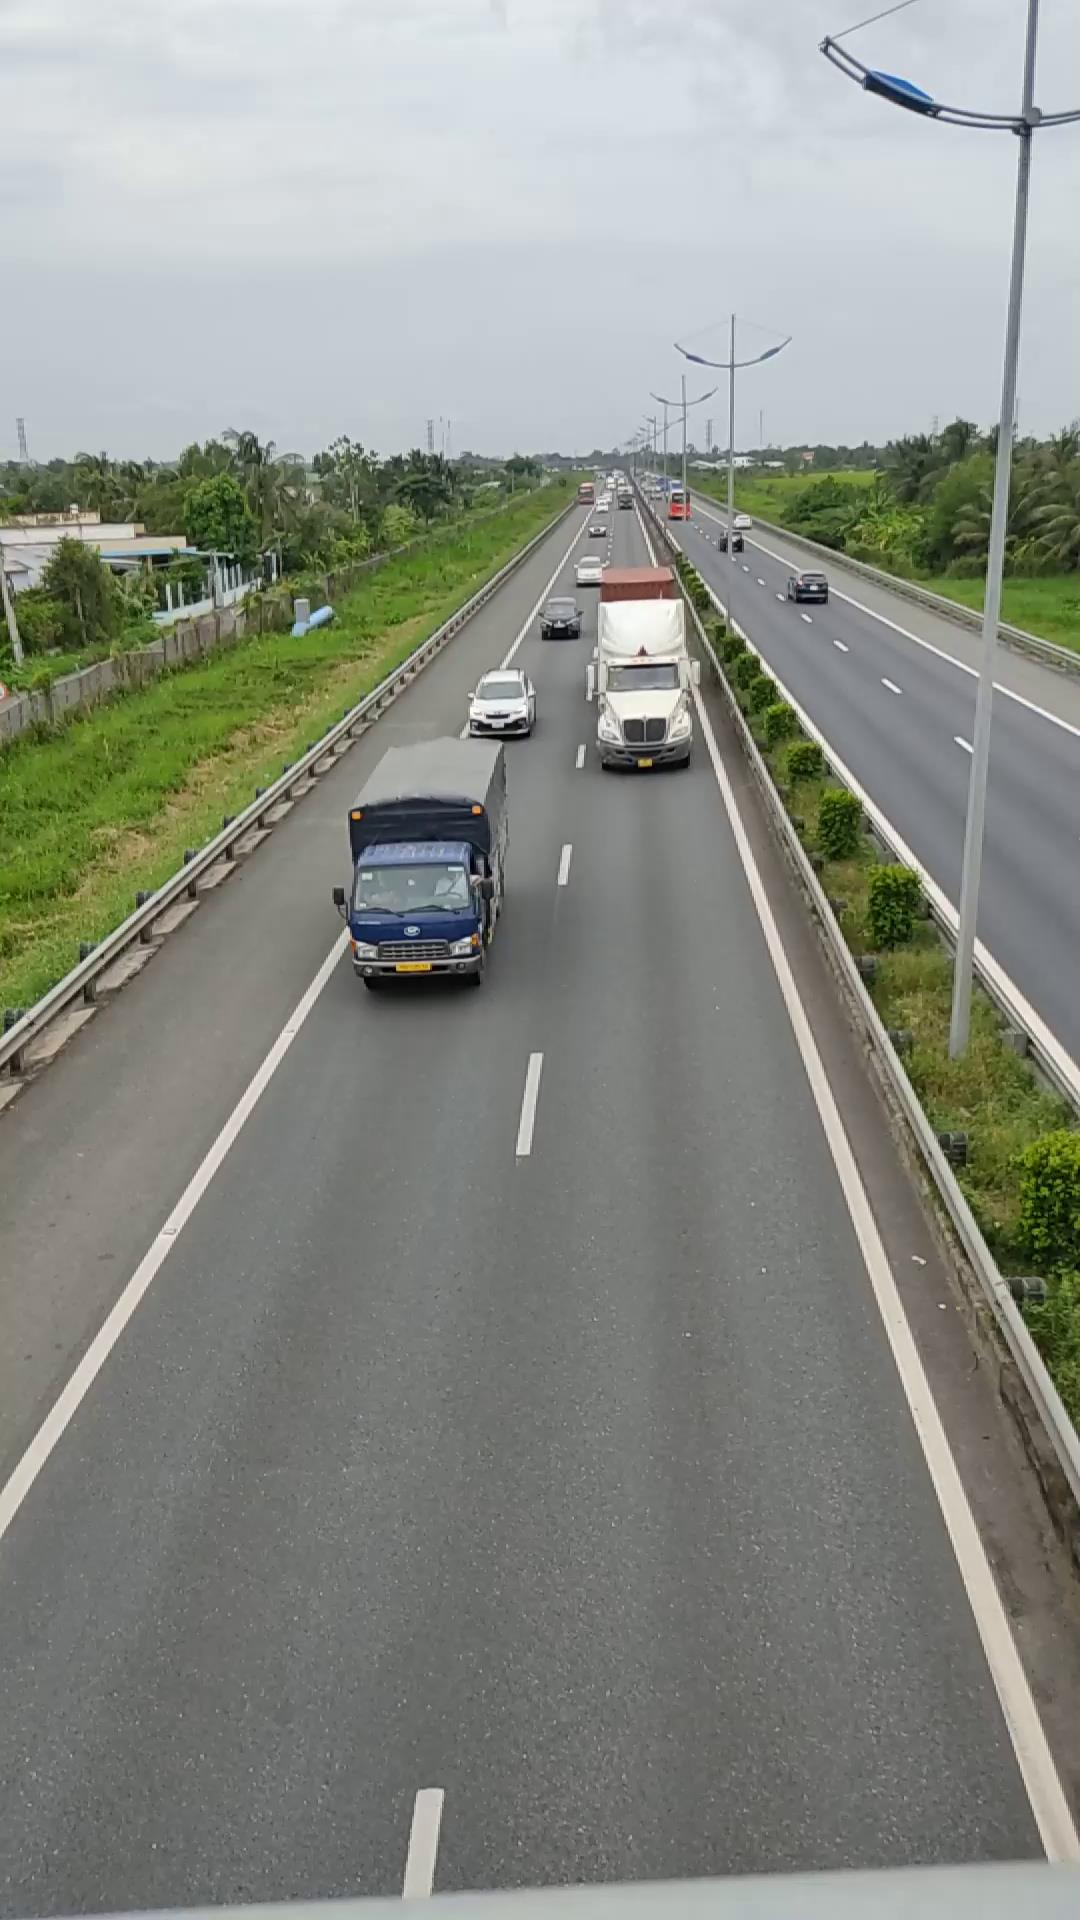car: (465, 669, 539, 738)
container: (585, 564, 700, 769)
truck: (339, 732, 512, 988)
